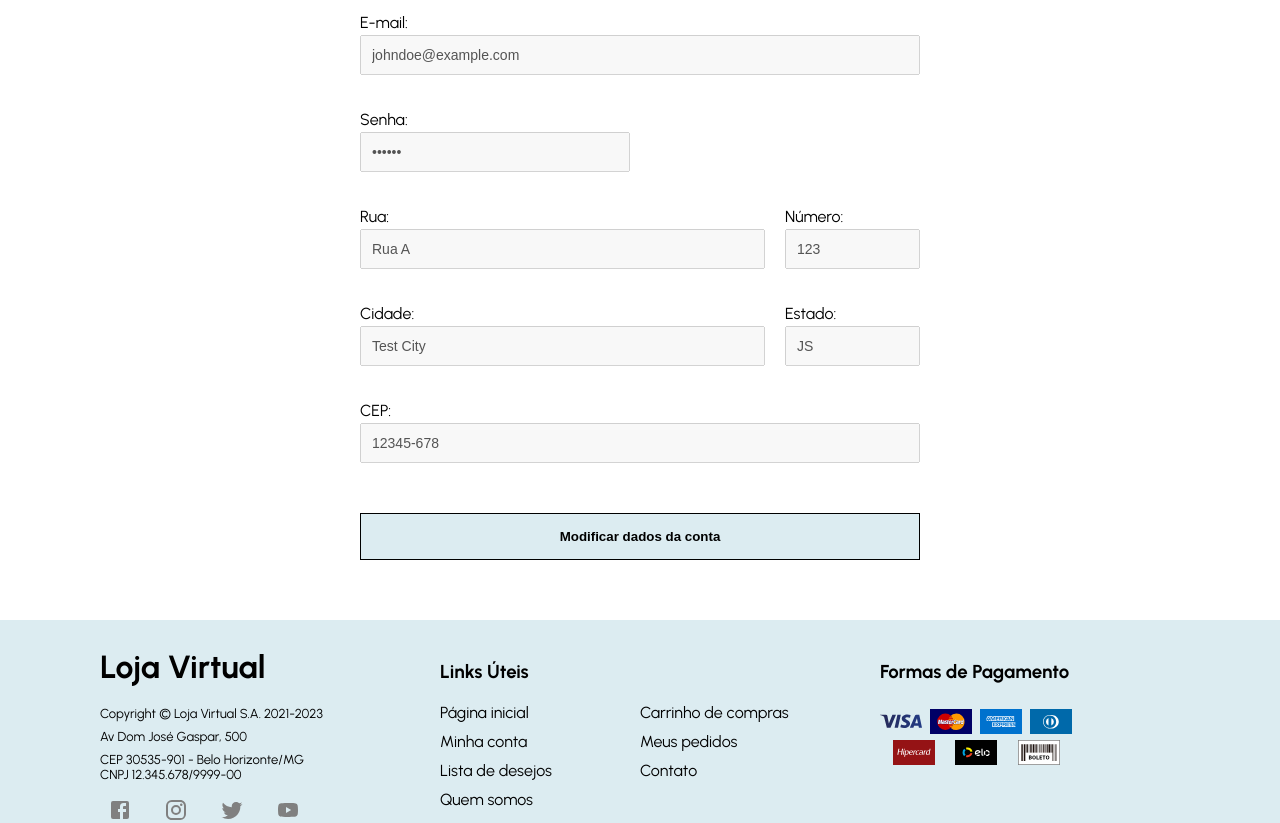
it: AccountData page › should allow cancel the account data changes
(page scrolled)
Click the button "Modificar dados da conta".
click(640, 536)  # box [360,513,920,560]
(page scrolled)
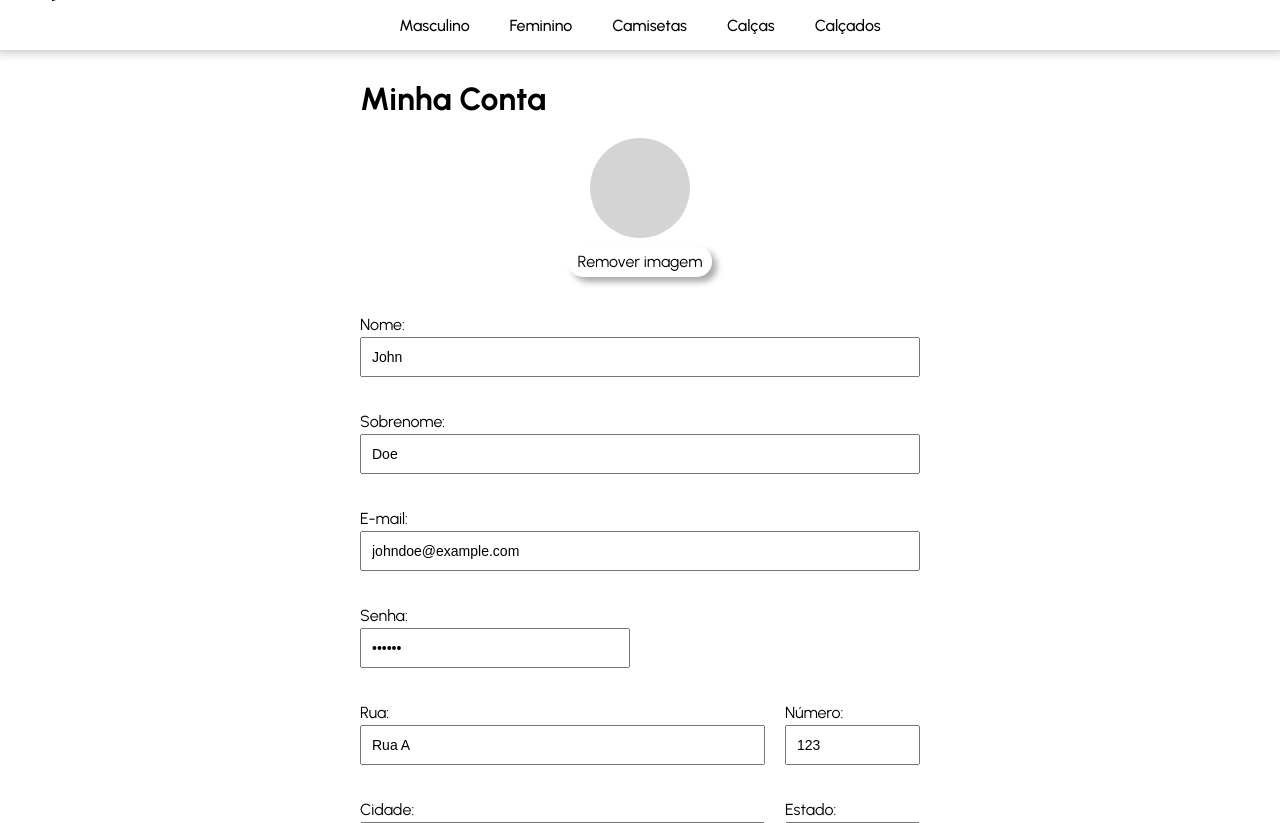
Result: the 1st field with placeholder "Nome" is enabled
Replace the text in the 1st field with placeholder "Nome" with "Jane" at coordinates (640, 357), box [360,337,920,377]
(page scrolled)
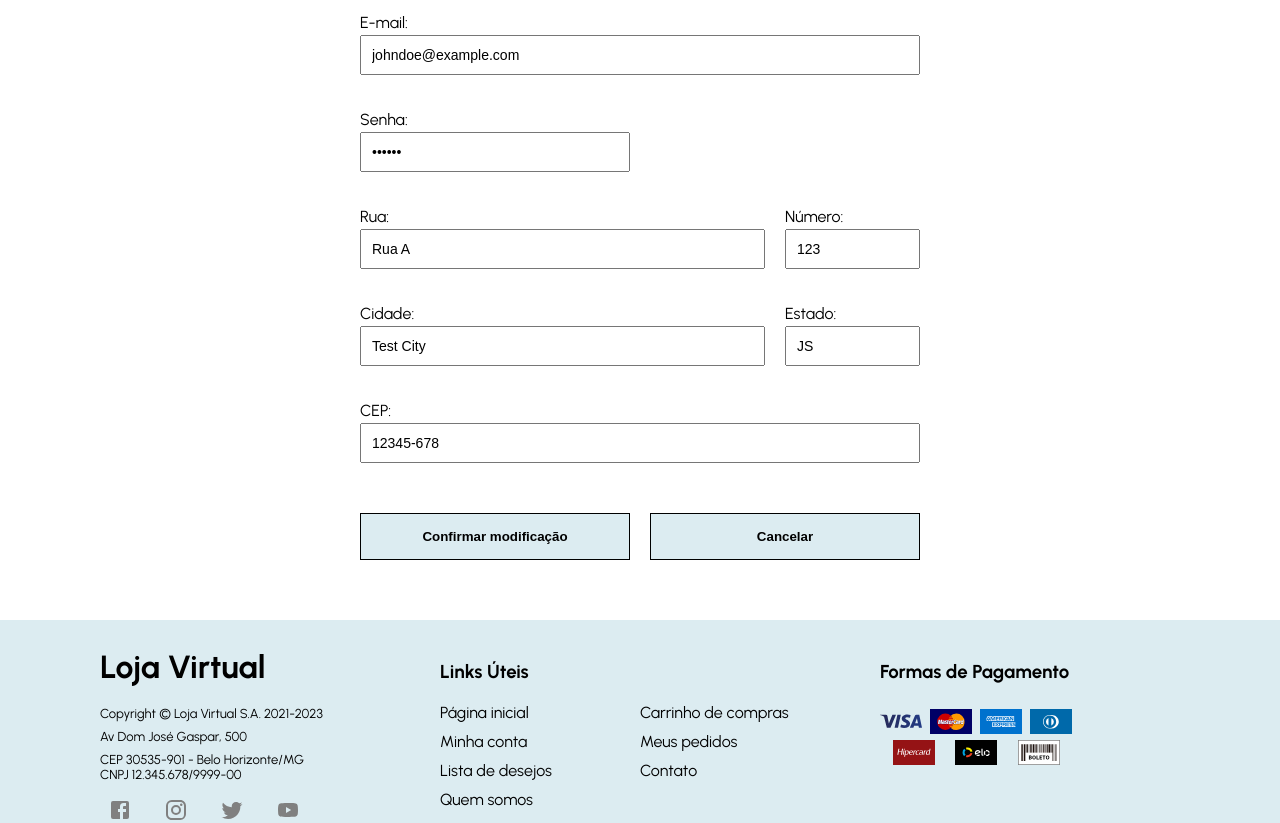
Click the button "Cancelar".
click(785, 536)  # box [650,513,920,560]
(page scrolled)
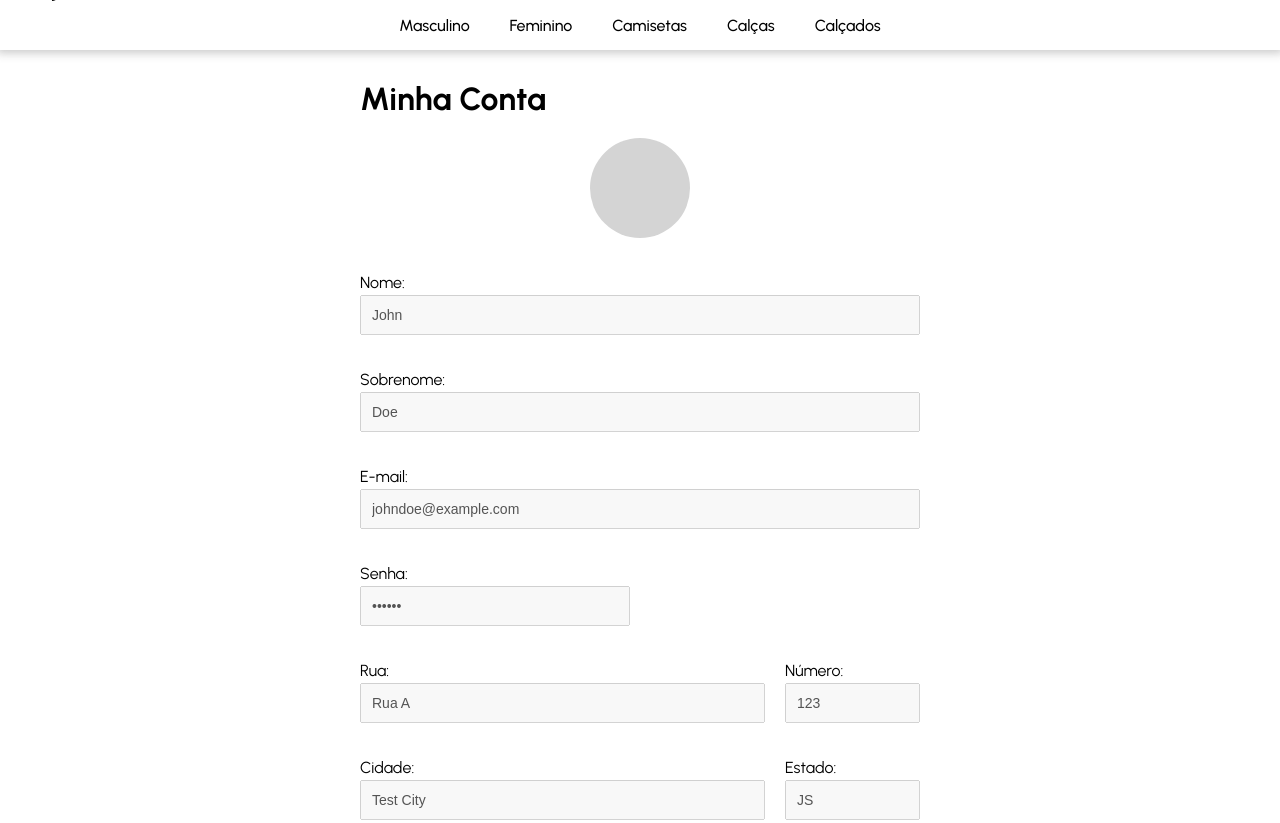
Result: the 1st field with placeholder "Nome" holds "John" at [360,295,920,335]
Result: the 1st field with placeholder "Nome" is disabled at [360,295,920,335]
